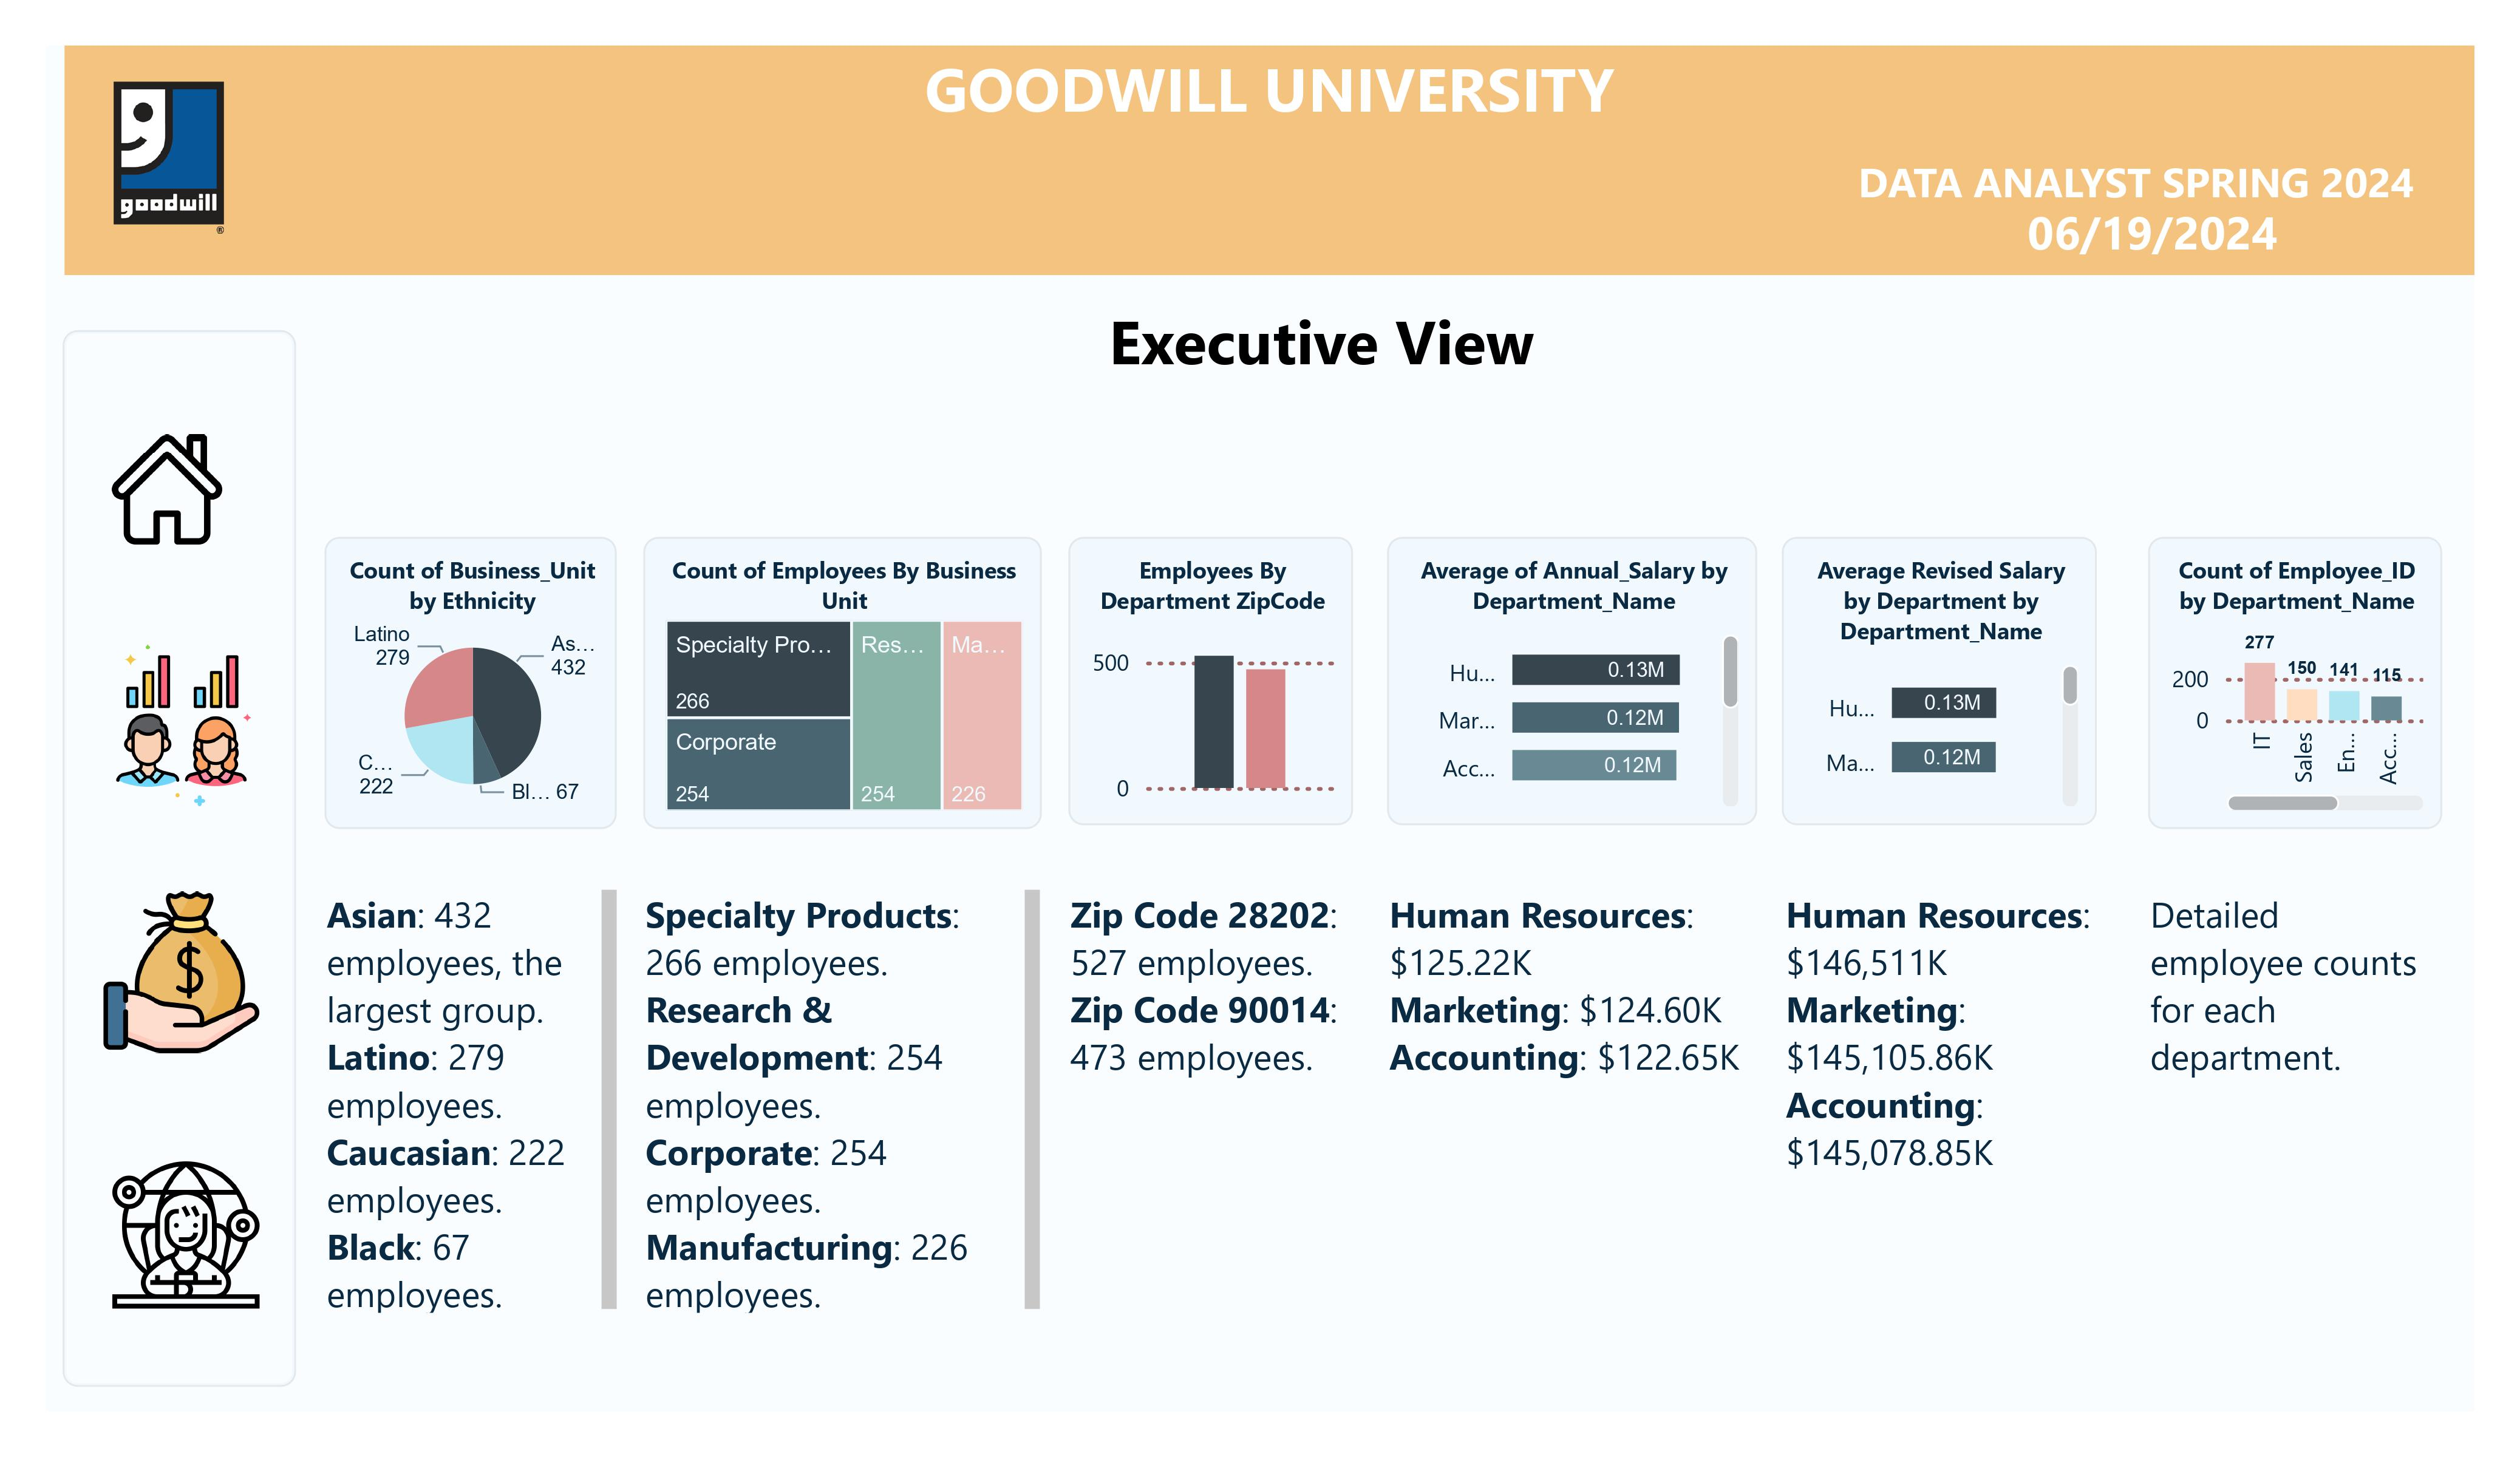

What the dashboard file says about the page in this screenshot:
{"tool":"powerbi","page":{"name":"Executive View","canvas":[1280,720],"ordinal":3},"visuals":[{"type":"textbox","box":[10.2,0,1269.6,120.8],"z":0},{"type":"image","box":[25.5,0,78.3,120.8],"z":1000},{"type":"card","fields":{"Values":["Key Measures.FormattedTodayDate"]},"box":[1028.5,78.4,163.6,42.6],"z":2000},{"type":"shape","box":[10.2,151.5,120.8,554.8],"z":3000},{"type":"image","box":[24.6,179.3,78.4,112],"z":4000},{"type":"image","box":[18.7,308,105.5,103.8],"z":5000},{"type":"image","box":[18.7,428.9,105.5,122.5],"z":6000},{"type":"image","box":[23.8,563.3,100.4,131],"z":7000},{"type":"pieChart","fields":{"Category":["EmployeeSampleDataCSV.Ethnicity"],"Y":["CountNonNull(EmployeeSampleDataCSV.Business_Unit)"]},"box":[147.9,259.9,152.4,152.4],"z":8000},{"type":"textbox","box":[316.6,132.7,711.4,68.1],"z":9000},{"type":"treemap","title":"Count of Employees By Business Unit","fields":{"Values":["CountNonNull(EmployeeSampleDataCSV.Employee_ID)"],"Group":["EmployeeSampleDataCSV.Business_Unit"]},"box":[316,259.9,208.4,152.4],"z":10000},{"type":"columnChart","title":"Employees By Department ZipCode","fields":{"Category":["DepartmentSampleDataCSV.Dept_Zip"],"Y":["CountNonNull(EmployeeSampleDataCSV.Employee_ID)"]},"box":[540,259.9,147.9,150.1],"z":11000},{"type":"barChart","fields":{"Category":["DepartmentSampleDataCSV.Department_Name"],"Y":["Avg(EmployeeSampleDataCSV.Annual_Salary)"]},"box":[708.1,259.9,192.7,150.1],"z":12000},{"type":"clusteredBarChart","fields":{"Y":["Key Measures.Average Revised Salary"],"Category":["DepartmentSampleDataCSV.Department_Name"]},"box":[916.5,259.9,163.6,150.1],"z":13000},{"type":"clusteredColumnChart","fields":{"Y":["CountNonNull(EmployeeSampleDataCSV.Employee_ID)"],"Category":["DepartmentSampleDataCSV.Department_Name"]},"box":[1109.2,259.9,152.4,152.4],"z":14000},{"type":"textbox","box":[147.8,445,152.9,222.5],"z":15000},{"type":"textbox","box":[316,445,208,223],"z":16000},{"type":"textbox","box":[540,445,150,223],"z":17000},{"type":"textbox","box":[708,445,193,223],"z":18000},{"type":"textbox","box":[917.2,445,163.1,222.5],"z":19000},{"type":"textbox","box":[1109,445,152,223],"z":20000}]}

Visuals, with their boxes on the page's 1280x720 design canvas (x1, y1, x2, y2). These are canvas units, not pixel positions in the 2520x1457 screenshot, which may show the page scaled, cropped or inside an application window:
textbox: {"x1": 10, "y1": 0, "x2": 1280, "y2": 121}
image: {"x1": 26, "y1": 0, "x2": 104, "y2": 121}
card - Key Measures.FormattedTodayDate: {"x1": 1028, "y1": 78, "x2": 1192, "y2": 121}
shape: {"x1": 10, "y1": 152, "x2": 131, "y2": 706}
image: {"x1": 25, "y1": 179, "x2": 103, "y2": 291}
image: {"x1": 19, "y1": 308, "x2": 124, "y2": 412}
image: {"x1": 19, "y1": 429, "x2": 124, "y2": 551}
image: {"x1": 24, "y1": 563, "x2": 124, "y2": 694}
pieChart - EmployeeSampleDataCSV.Ethnicity x CountNonNull(EmployeeSampleDataCSV.Business_Unit): {"x1": 148, "y1": 260, "x2": 300, "y2": 412}
textbox: {"x1": 317, "y1": 133, "x2": 1028, "y2": 201}
"Count of Employees By Business Unit" treemap: {"x1": 316, "y1": 260, "x2": 524, "y2": 412}
"Employees By Department ZipCode" columnChart: {"x1": 540, "y1": 260, "x2": 688, "y2": 410}
barChart - DepartmentSampleDataCSV.Department_Name x Avg(EmployeeSampleDataCSV.Annual_Salary): {"x1": 708, "y1": 260, "x2": 901, "y2": 410}
clusteredBarChart - Key Measures.Average Revised Salary x DepartmentSampleDataCSV.Department_Name: {"x1": 916, "y1": 260, "x2": 1080, "y2": 410}
clusteredColumnChart - CountNonNull(EmployeeSampleDataCSV.Employee_ID) x DepartmentSampleDataCSV.Department_Name: {"x1": 1109, "y1": 260, "x2": 1262, "y2": 412}
textbox: {"x1": 148, "y1": 445, "x2": 301, "y2": 668}
textbox: {"x1": 316, "y1": 445, "x2": 524, "y2": 668}
textbox: {"x1": 540, "y1": 445, "x2": 690, "y2": 668}
textbox: {"x1": 708, "y1": 445, "x2": 901, "y2": 668}
textbox: {"x1": 917, "y1": 445, "x2": 1080, "y2": 668}
textbox: {"x1": 1109, "y1": 445, "x2": 1261, "y2": 668}
